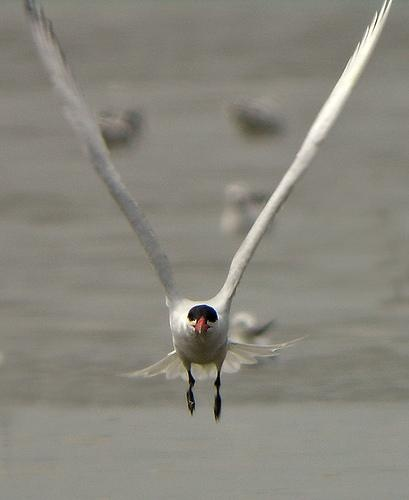bird: (44, 1, 398, 421)
